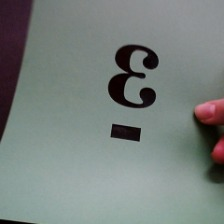green3: (102, 41, 165, 148)
